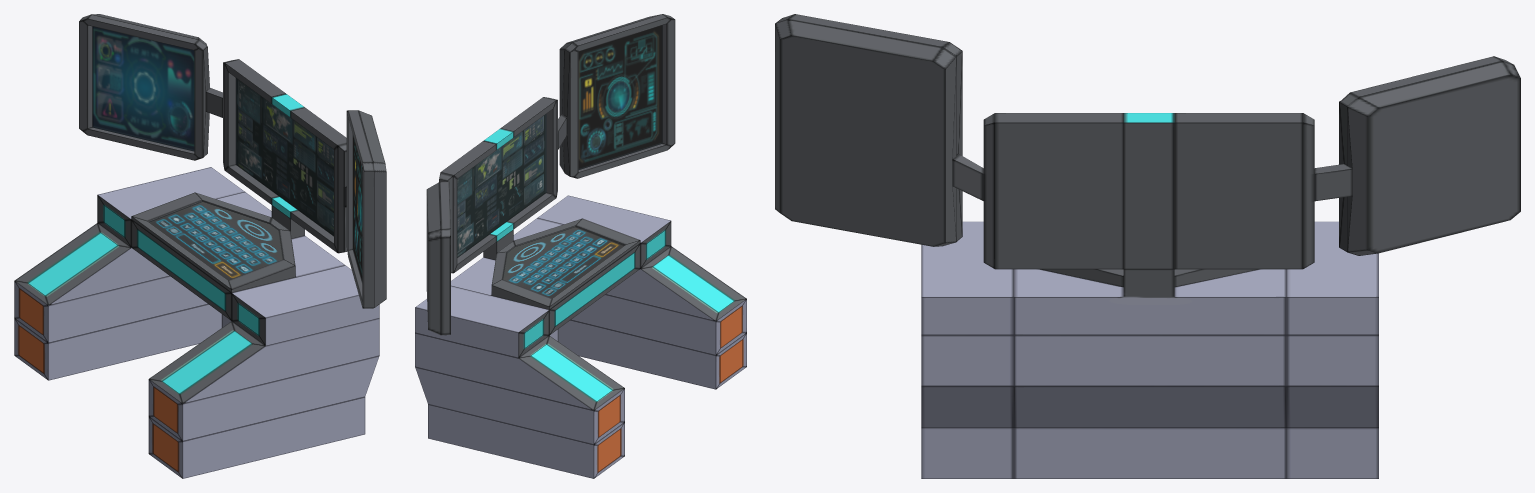
File: computer lobby.fbx
3 renders of one model, left to right at view 1: azimuth 30°, elevation 25°; view 2: azimuth 150°, elevation 25°; view 3: azimuth 270°, elevation 25°, orthographic. The views are drawn at different scales.
Visible parts, largest first — view 1: Cube; view 2: Cube; view 3: Cube.
Part boxes in pixels (left/top/right/bottom): Cube: left=14, top=14, right=386, bottom=478; Cube: left=415, top=14, right=746, bottom=478; Cube: left=775, top=14, right=1520, bottom=478.
Bounding box in the file's own units: 108 × 166 × 260.
